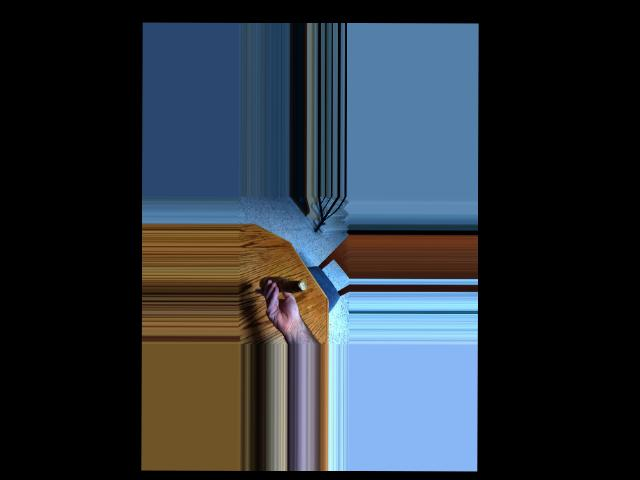sweet_potato: (263, 274, 303, 296)
